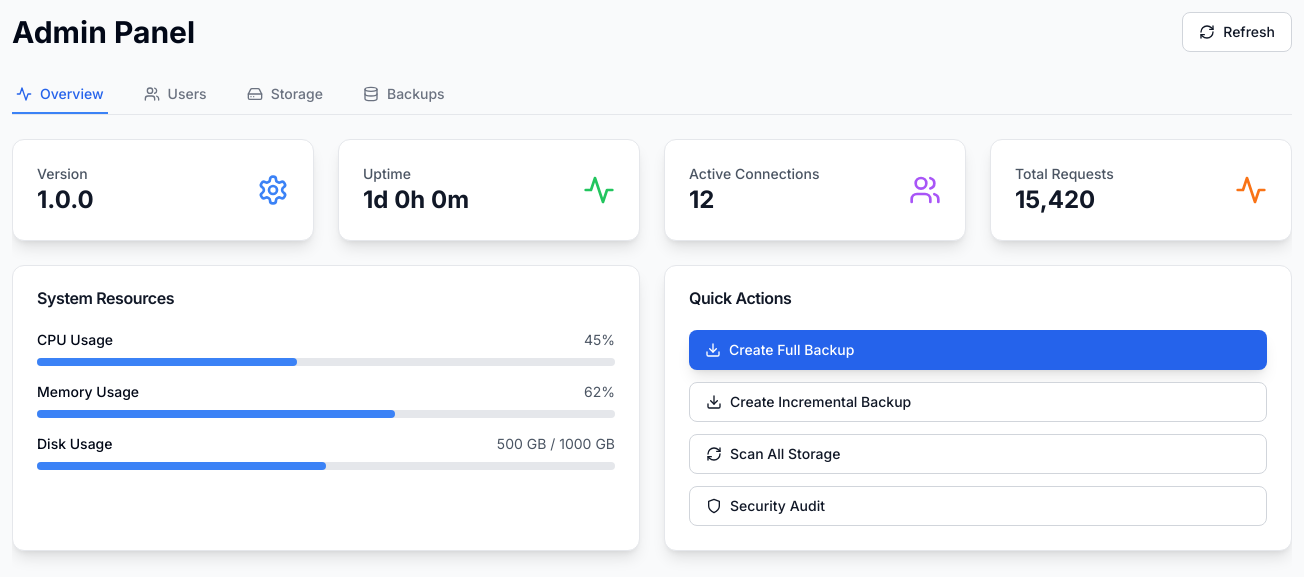
Test: AdminPanel › switches to users tab on click
This screenshot has width=1304, height=577.
Click the button "Users".
click(175, 95)  # box [140,76,211,114]
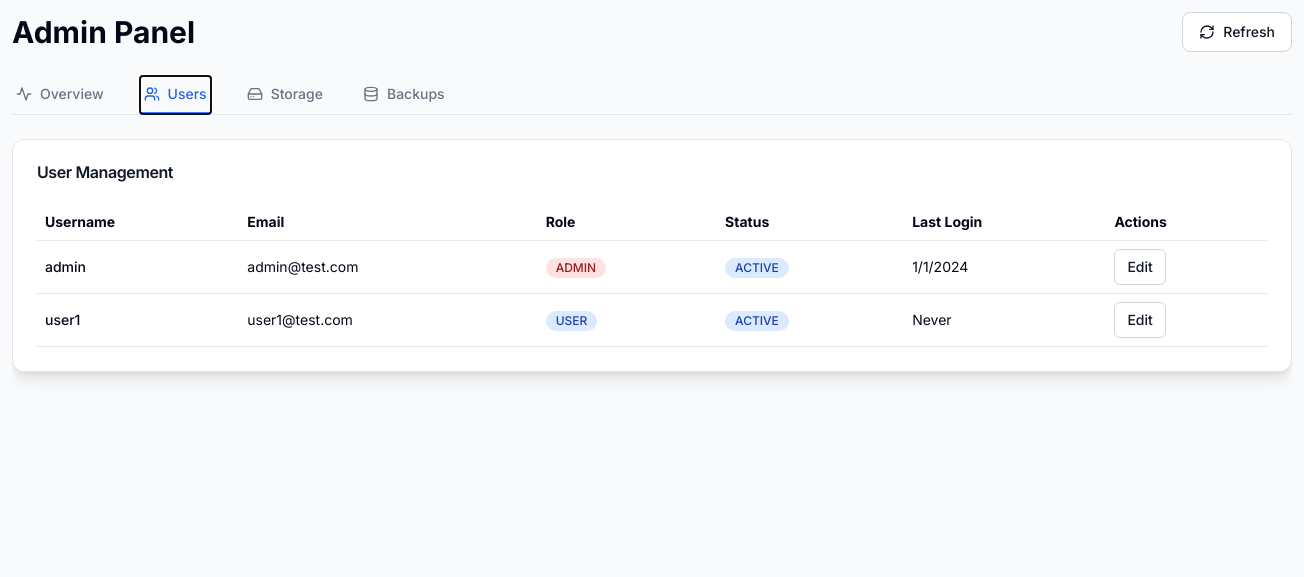
Check: the heading "User Management" is shown, box [37,162,173,182]
Check: the text "admin" is shown, box [37,240,239,294]
Check: the text "user1" is shown, box [37,294,239,346]
